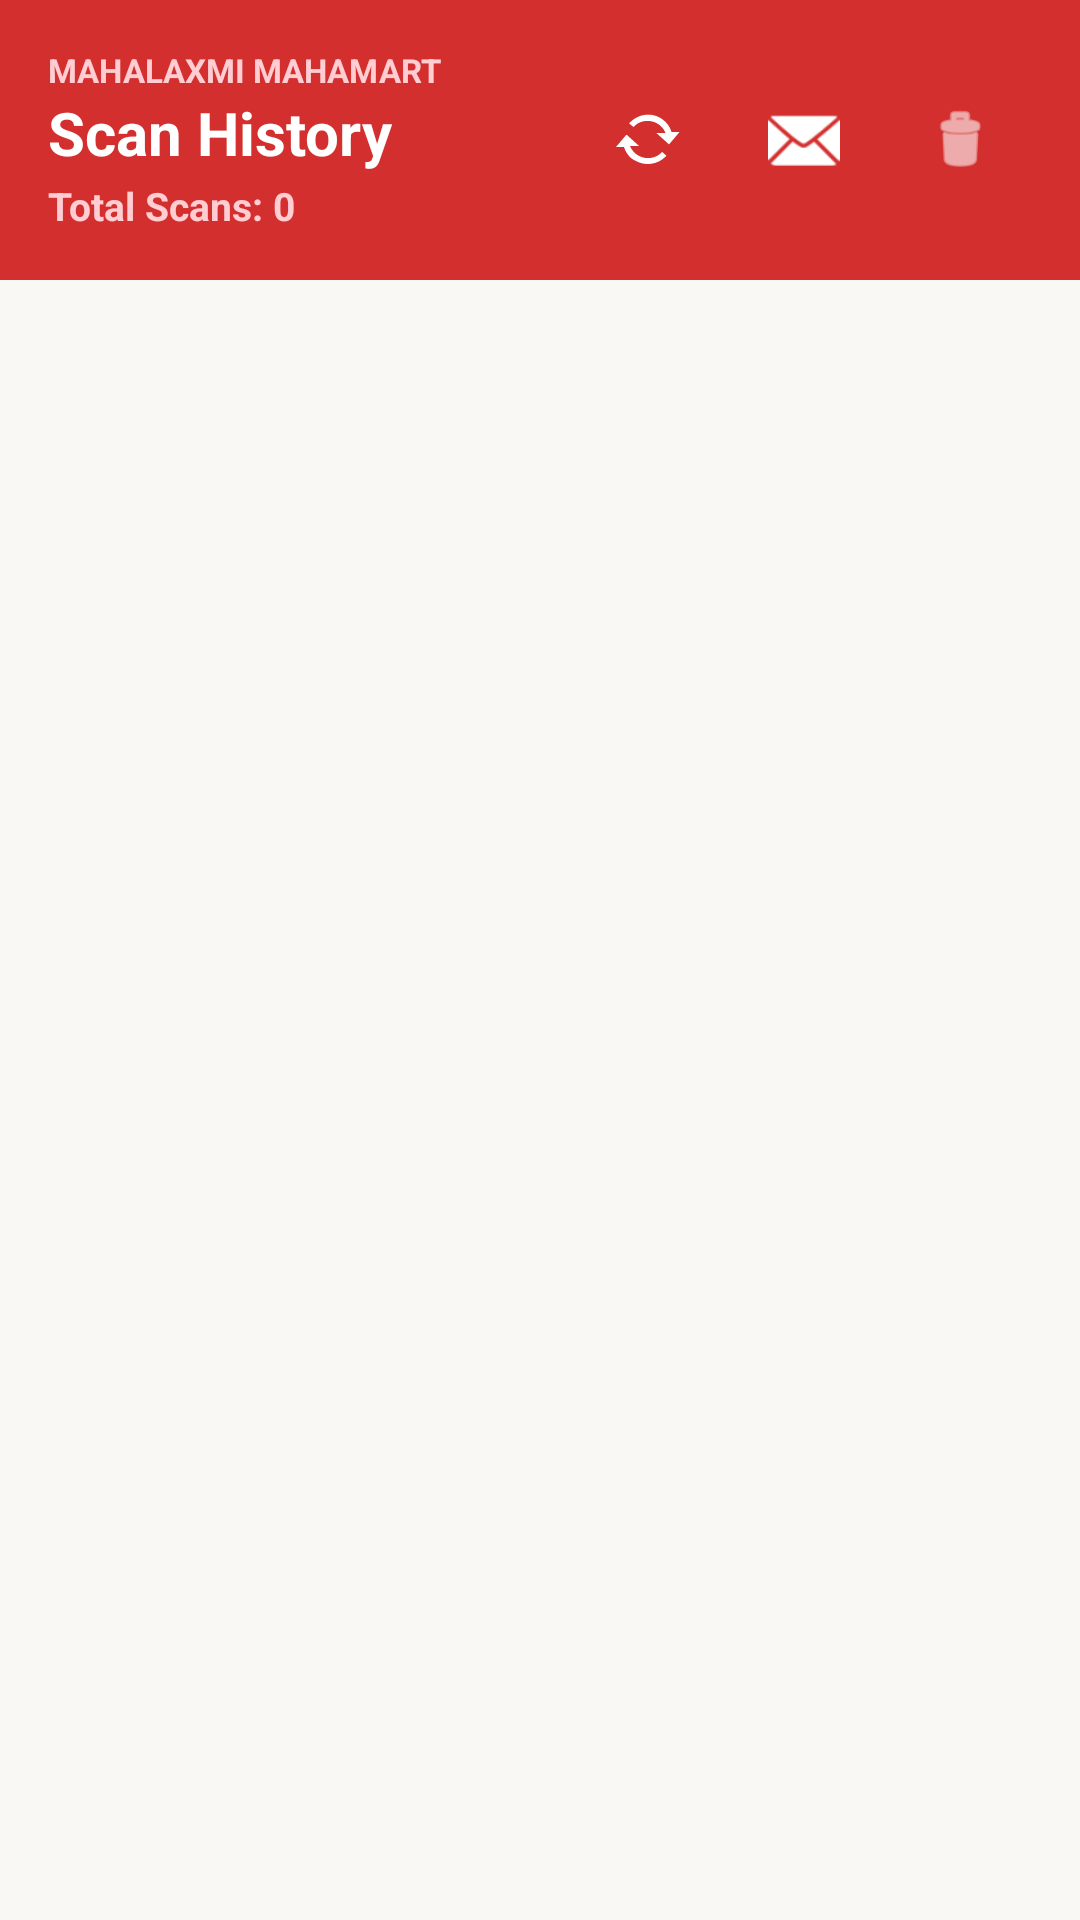

Locate icon controls on the screen. Image size 1080×1920, boxes as {"left": x1, "top": y1, "right": x2, "bottom": y2}.
Clear All History: {"left": 940, "top": 111, "right": 981, "bottom": 167}
Export CSV to Email: {"left": 768, "top": 115, "right": 840, "bottom": 166}
Sync to Cloud: {"left": 616, "top": 114, "right": 680, "bottom": 164}
